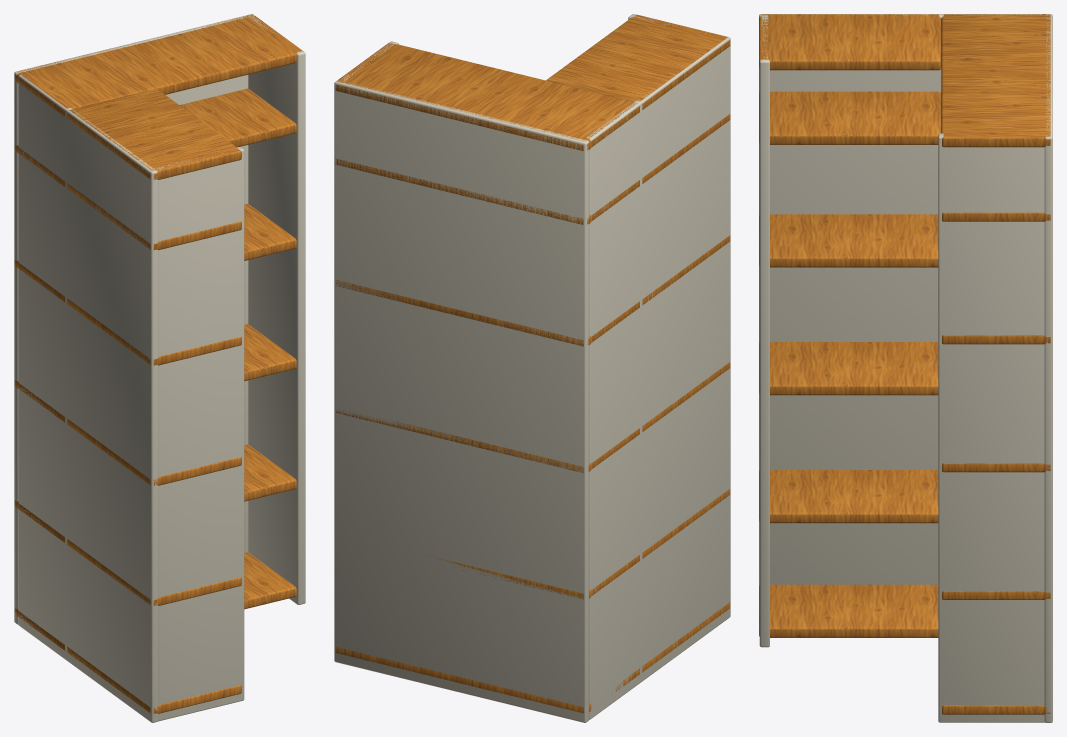
File: closet-corner-module.glb
3 views of the same model, side by side, from view 1: azimuth 30°, elevation 25°; view 2: azimuth 150°, elevation 25°; view 3: azimuth 270°, elevation 25° (orthographic). The views are drawn at different scales.
Parts seen in each view (by area): view 1: closet-corner-module; view 2: closet-corner-module; view 3: closet-corner-module.
Boxes of the visible parts, x1,y1,x2,y2 form: closet-corner-module: (14,14,305,722); closet-corner-module: (334,14,730,722); closet-corner-module: (759,14,1052,722).
Bounding box in the file's own units: 1 × 2.2 × 1.
2 materials, 1 textured.
